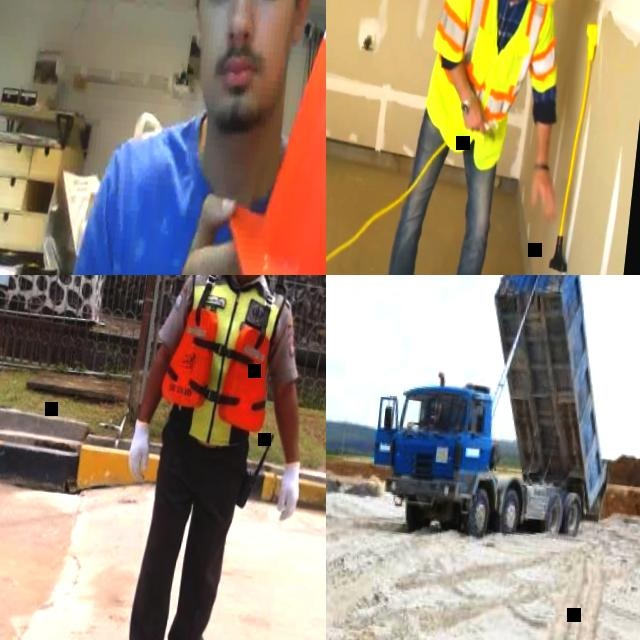NO-Mask: (193, 38, 279, 133)
NO-Safety Vest: (111, 127, 282, 275)
Person: (99, 275, 326, 640), (72, 0, 326, 275), (357, 0, 590, 275)
Safety Cone: (214, 0, 326, 275)
Safety Vest: (421, 0, 572, 176), (156, 275, 287, 454)
machinery: (364, 275, 636, 552)
